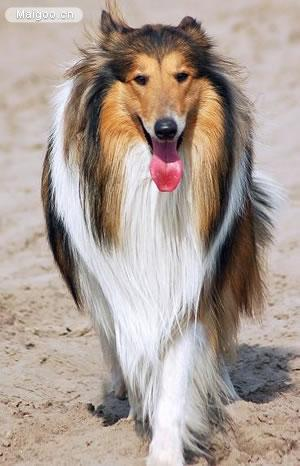dog: (74, 7, 248, 206)
